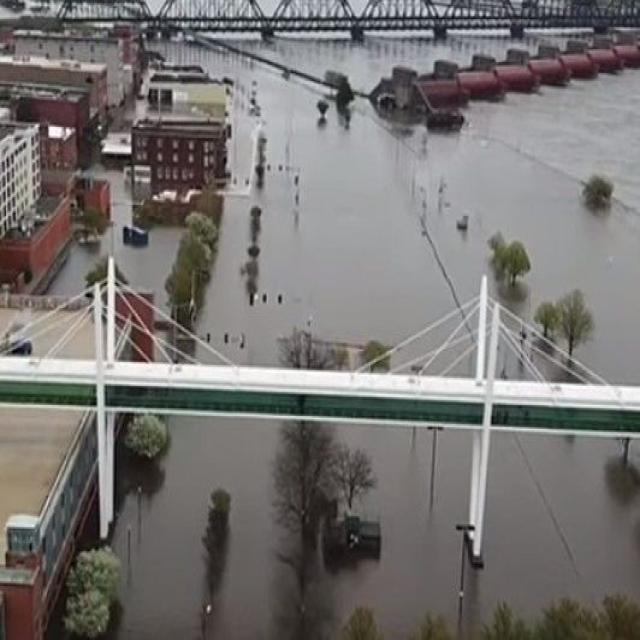flooded_areas: (24, 24, 633, 602)
